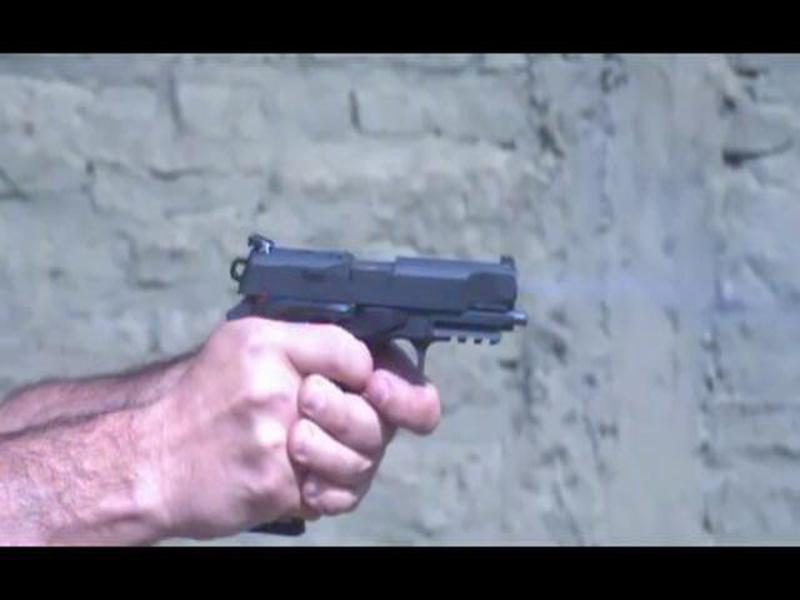Pistola: (174, 226, 535, 541)
